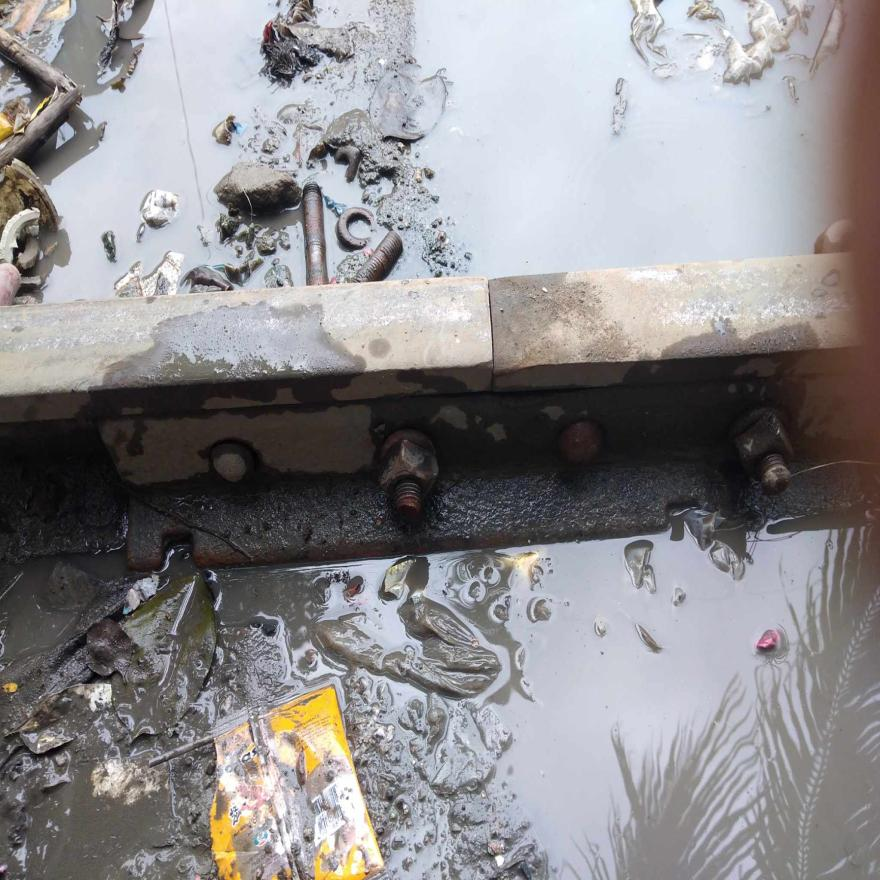railway-gap: (430, 250, 554, 410)
